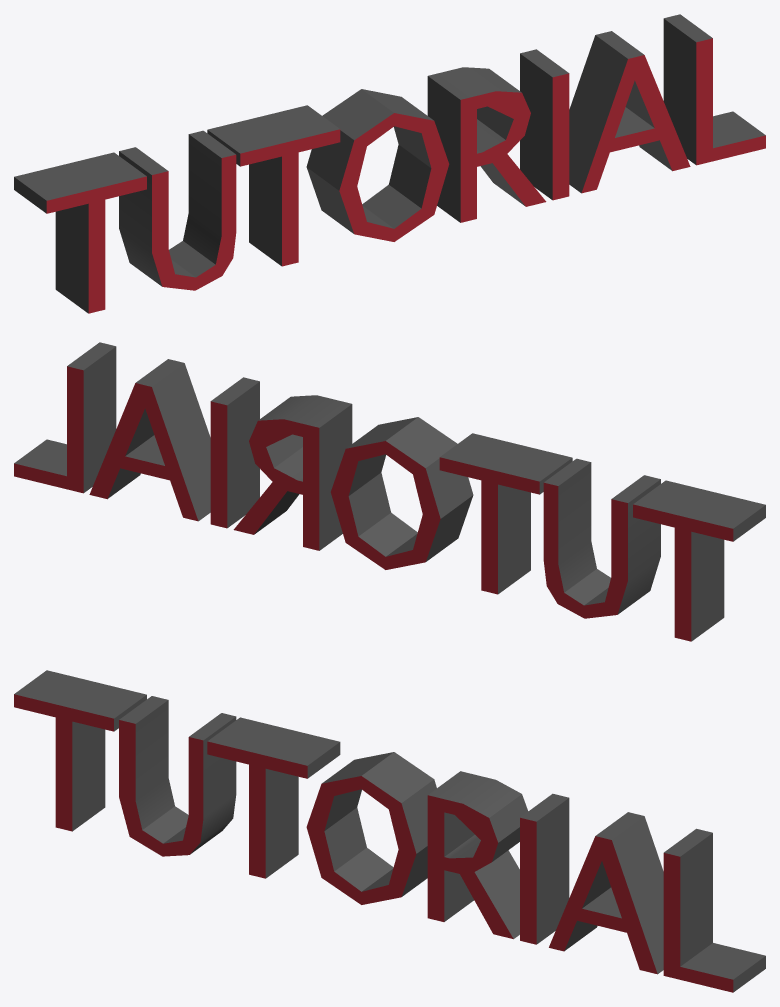
Rendered from TutorialChar.fbx.
3 views of the same model, one above another, from view 1: azimuth 30°, elevation 25°; view 2: azimuth 150°, elevation 25°; view 3: azimuth 330°, elevation 25° (orthographic).
Parts seen in each view (by area): view 1: typeMesh1; view 2: typeMesh1; view 3: typeMesh1.
Boxes of the visible parts, x1,y1,x2,y2 form: typeMesh1: (14,14,765,313); typeMesh1: (14,342,765,641); typeMesh1: (14,670,765,992).
Size of the model in its own units: 17.29 by 2.97 by 1.37.
